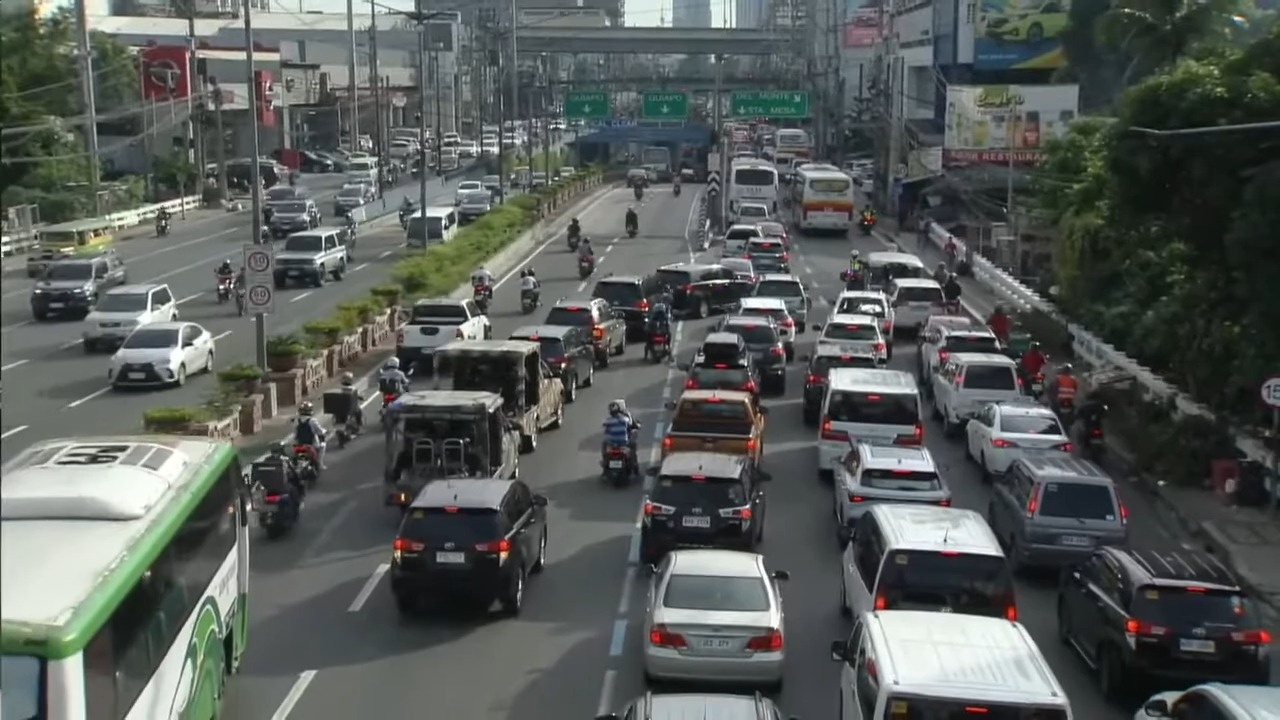bus: (0, 436, 249, 719), (788, 164, 855, 232), (726, 158, 777, 218), (406, 206, 459, 247), (639, 147, 672, 181), (775, 128, 811, 158)
car: (1057, 547, 1271, 699), (388, 478, 546, 615), (840, 503, 1017, 620), (643, 549, 788, 687), (987, 454, 1127, 569), (639, 452, 771, 564), (832, 438, 951, 547), (966, 399, 1072, 477), (931, 353, 1023, 436), (108, 322, 214, 389), (30, 249, 126, 320), (81, 283, 178, 352), (509, 326, 594, 401), (644, 263, 754, 318), (802, 345, 877, 425), (543, 298, 626, 367), (715, 316, 787, 395), (917, 322, 1001, 388), (1134, 682, 1279, 719), (682, 332, 759, 400), (982, 0, 1069, 45), (814, 314, 889, 366), (591, 275, 650, 340), (738, 298, 796, 361), (751, 273, 811, 332), (885, 277, 944, 332), (832, 291, 893, 339), (916, 314, 980, 349), (269, 198, 321, 238), (743, 236, 789, 271), (26, 247, 75, 279), (334, 183, 374, 216), (722, 225, 762, 258), (457, 189, 492, 222), (720, 256, 756, 282), (756, 220, 788, 248), (299, 150, 335, 173), (264, 185, 305, 204), (734, 202, 771, 222), (753, 255, 789, 275), (455, 180, 483, 205), (387, 139, 418, 160), (625, 168, 651, 187), (509, 166, 531, 188), (480, 175, 501, 197), (457, 140, 479, 158), (481, 137, 498, 156), (530, 171, 547, 187), (557, 166, 575, 179)
motorcycle: (249, 458, 301, 538), (257, 490, 300, 538), (1078, 405, 1107, 462), (601, 445, 633, 486), (292, 443, 319, 483), (335, 412, 360, 448), (379, 391, 398, 427), (1052, 398, 1074, 427), (648, 333, 669, 363), (343, 224, 357, 261), (473, 284, 490, 313), (216, 276, 234, 303), (520, 290, 539, 315), (840, 270, 865, 289), (1026, 373, 1044, 399), (398, 207, 414, 229), (578, 256, 593, 279), (859, 216, 875, 235), (235, 286, 245, 316), (567, 226, 579, 251), (944, 299, 961, 315), (156, 219, 169, 236), (259, 225, 271, 243), (626, 223, 637, 237), (633, 185, 643, 200), (673, 184, 682, 197)
truck: (384, 390, 519, 509), (436, 340, 564, 452), (661, 389, 766, 465), (396, 298, 492, 374), (273, 228, 347, 288)
